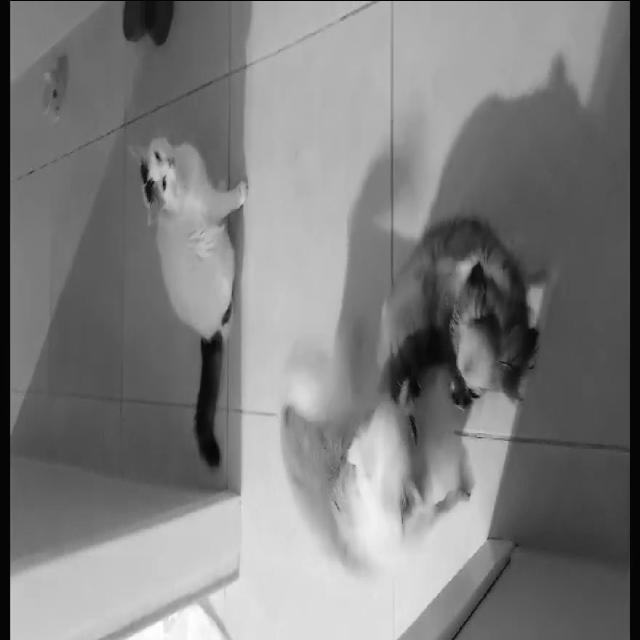Pedrita: (367, 152, 560, 489)
